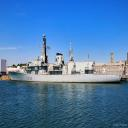Fragata: (9, 33, 124, 83)
